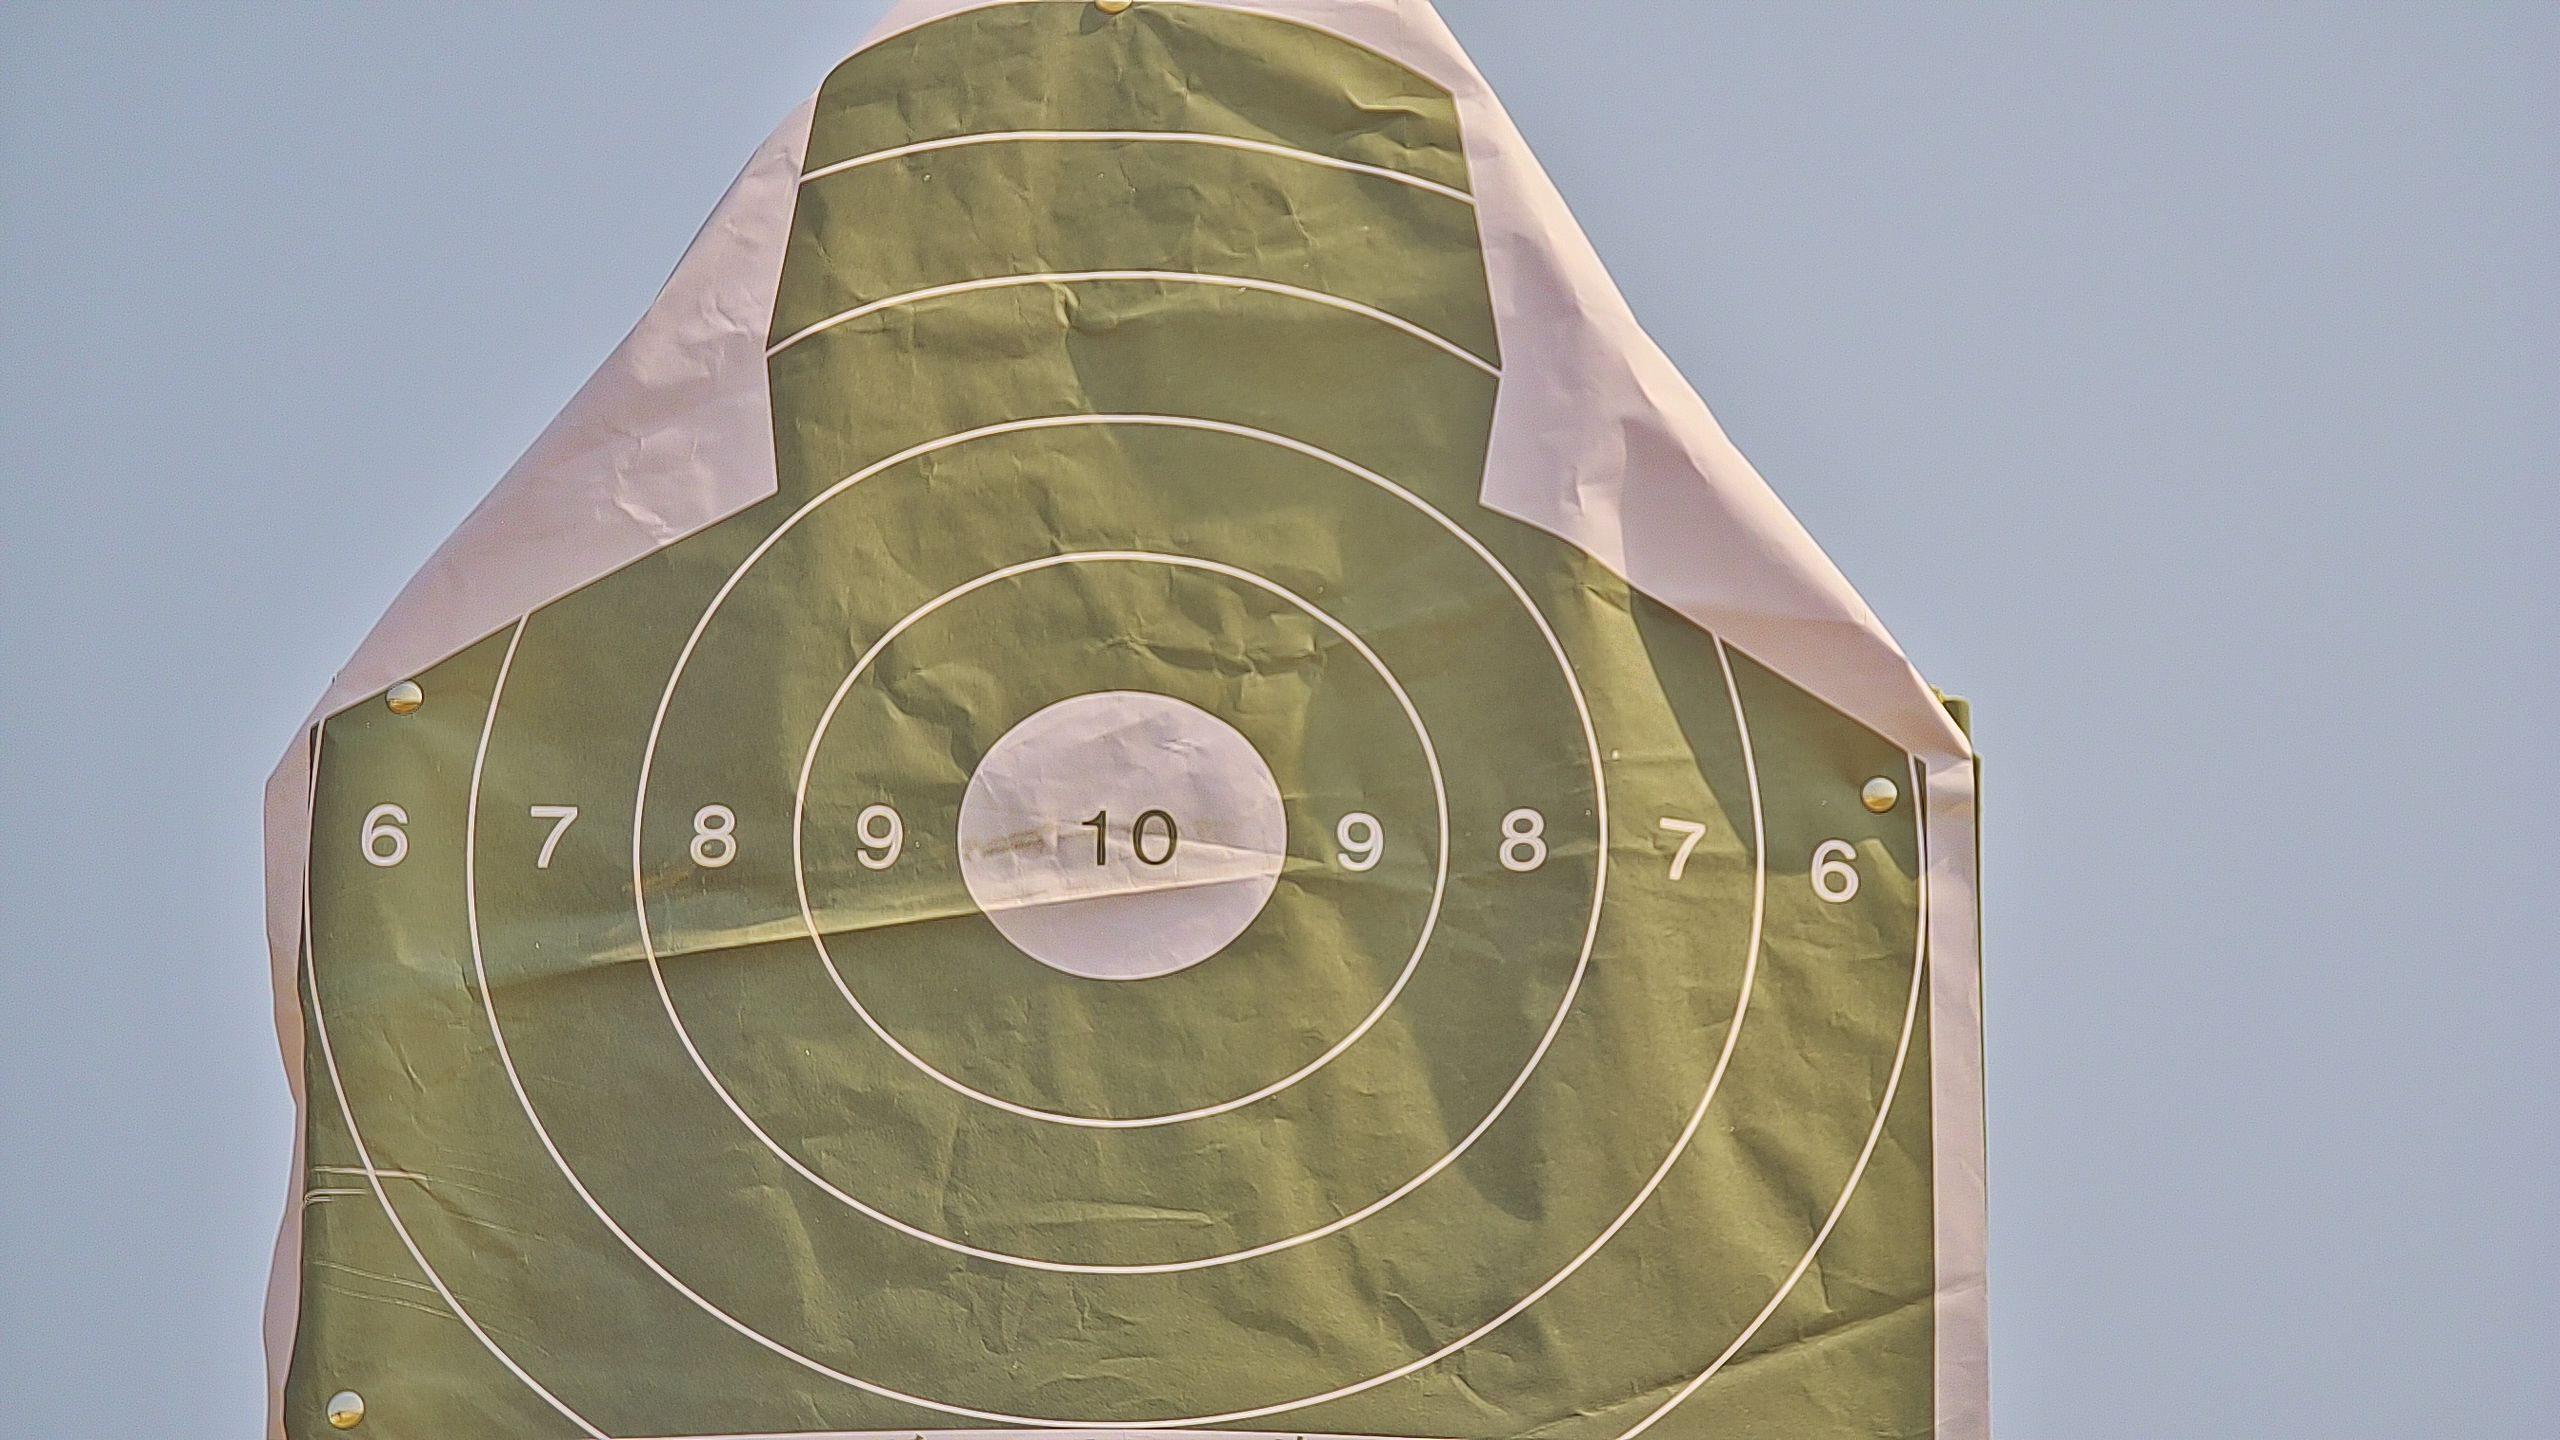kernel: (1116, 833, 1120, 839)
target: (294, 5, 1943, 1440)
ten: (958, 689, 1285, 983)
